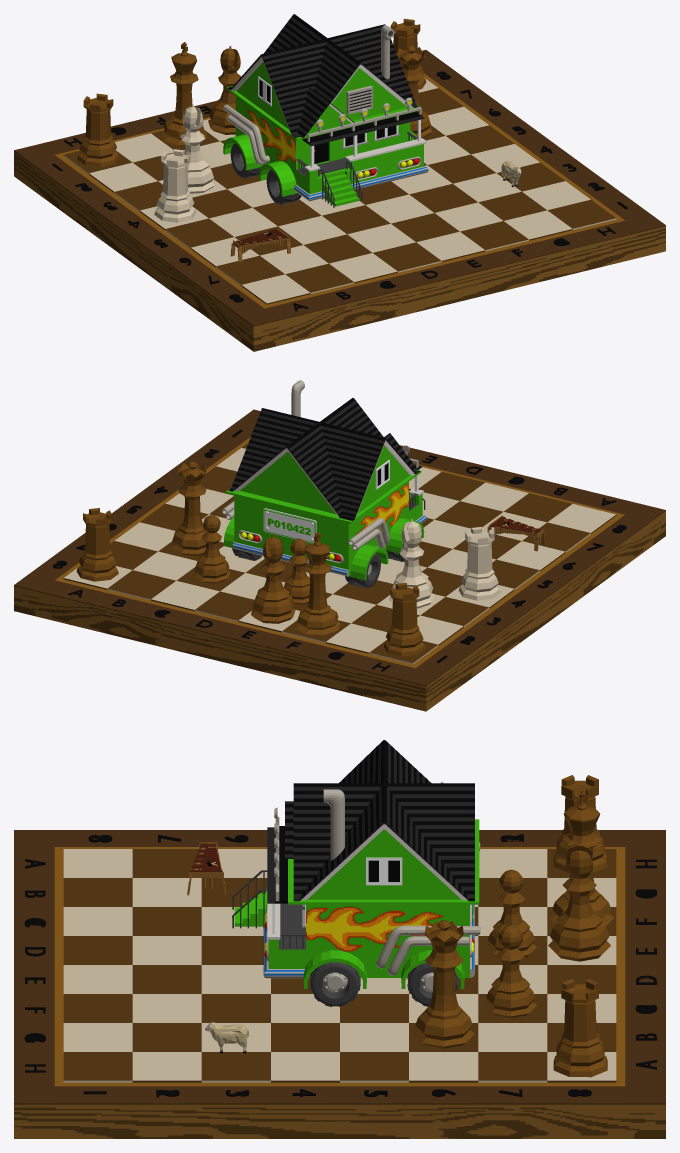
3 renders of one model, top to bottom at view 1: azimuth 30°, elevation 25°; view 2: azimuth 150°, elevation 25°; view 3: azimuth 270°, elevation 25°, orthographic. The views are drawn at different scales.
Parts seen in each view (by area): view 1: Cube.002, Cube.1474, OBJRANDOM_MARIMBA; view 2: Cube.002, Cube.1474, OBJRANDOM_MARIMBA; view 3: Cube.002, Cube.1474, OBJRANDOM_MARIMBA, ANIMAL_OVEJA.
Part boxes in pixels (x1=…): Cube.002: x1=14, y1=18, x2=665, y2=351; Cube.1474: x1=223, y1=14, x2=428, y2=207; OBJRANDOM_MARIMBA: x1=230, y1=227, x2=290, y2=262; Cube.002: x1=14, y1=409, x2=665, y2=711; Cube.1474: x1=221, y1=380, x2=427, y2=588; OBJRANDOM_MARIMBA: x1=487, y1=515, x2=545, y2=551; Cube.002: x1=14, y1=775, x2=665, y2=1138; Cube.1474: x1=232, y1=740, x2=480, y2=1006; OBJRANDOM_MARIMBA: x1=187, y1=842, x2=226, y2=895; ANIMAL_OVEJA: x1=205, y1=1022, x2=248, y2=1053.
Bounding box in the file's own units: 3981 × 1721 × 4012.
Materials: 32 (3 with a texture image).
